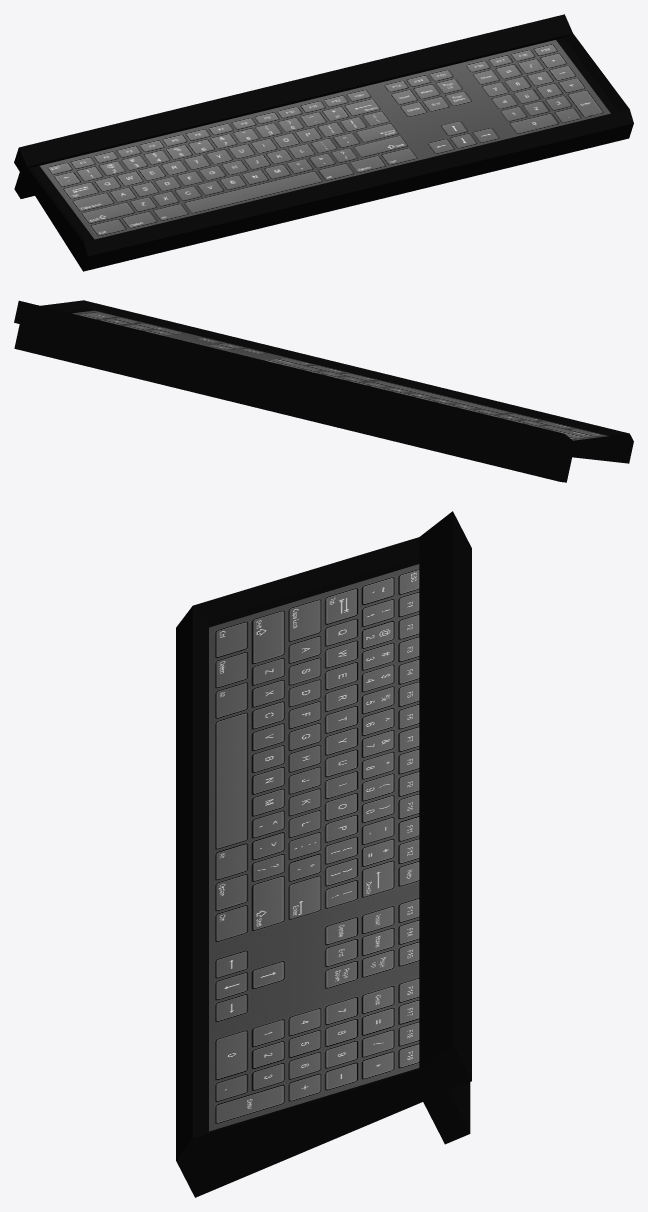
File: Keyboard.fbx
The picture shows the model from 3 angles, top to bottom: view 1: azimuth 30°, elevation 25°; view 2: azimuth 150°, elevation 25°; view 3: azimuth 270°, elevation 25°; orthographic projection. The views are drawn at different scales.
Visible parts, largest first — view 1: pCube2; view 2: pCube2; view 3: pCube2.
Boxes of the visible parts, left/top/right/bottom form: pCube2: left=14, top=14, right=633, bottom=271; pCube2: left=14, top=300, right=633, bottom=482; pCube2: left=176, top=511, right=471, bottom=1197.
Size of the model in its own units: 8.06 by 1.09 by 1.89.
Materials: 2 (1 with a texture image).
